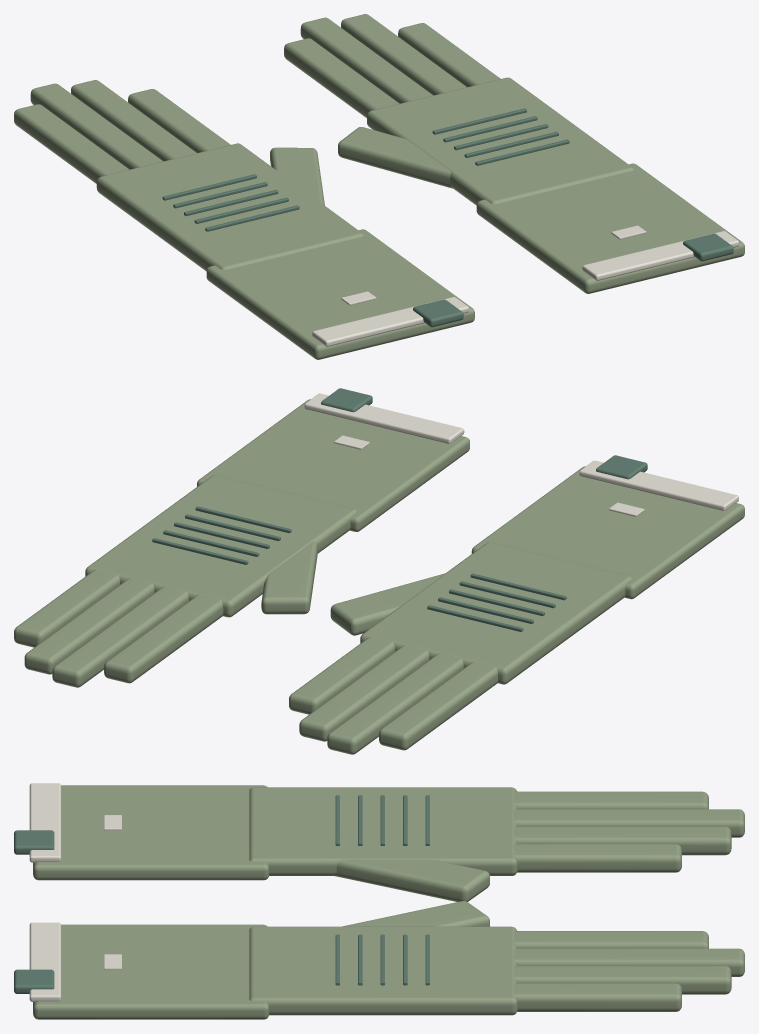
File: care-gloves.glb
3 views of the same model, one above another, from view 1: azimuth 30°, elevation 25°; view 2: azimuth 150°, elevation 25°; view 3: azimuth 270°, elevation 25° (orthographic). The views are drawn at different scales.
Parts seen in each view (by area): view 1: Glove palm, Glove palm.001, Glove long cuff.001, Glove long cuff, Glove finger.001, Glove finger.005, Glove thumb.001, Glove finger.004, Glove finger, Glove finger.002, Glove finger.006, Glove finger.007 (+6 smaller); view 2: Glove palm, Glove palm.001, Glove long cuff, Glove long cuff.001, Glove finger.005, Glove finger.001, Glove finger.004, Glove finger, Glove finger.006, Glove finger.002, Glove finger.003, Glove finger.007 (+6 smaller); view 3: Glove palm.001, Glove palm, Glove long cuff.001, Glove long cuff, Glove finger.003, Glove finger.007, Glove thumb, Glove finger.002, Glove finger.006, Glove finger.005, Glove finger.001, Glove finger (+6 smaller).
Boxes of the visible parts, box(x1,y1,x2,y2) form: Glove palm: box(96, 143, 364, 271); Glove palm.001: box(367, 77, 634, 205); Glove long cuff.001: box(476, 163, 744, 293); Glove long cuff: box(206, 229, 474, 359); Glove finger.001: box(30, 83, 163, 169); Glove finger.005: box(300, 17, 433, 103); Glove thumb.001: box(338, 127, 452, 188); Glove finger.004: box(284, 38, 399, 117); Glove finger: box(14, 104, 129, 183); Glove finger.002: box(71, 80, 196, 161); Glove finger.006: box(341, 14, 466, 95); Glove finger.007: box(398, 23, 500, 86); Glove palm: box(360, 542, 632, 684); Glove palm.001: box(85, 475, 357, 617); Glove long cuff: box(471, 466, 744, 599); Glove long cuff.001: box(197, 399, 469, 531); Glove finger.005: box(52, 586, 188, 687); Glove finger.001: box(327, 653, 463, 754); Glove finger.004: box(104, 594, 223, 683); Glove finger: box(379, 661, 497, 750); Glove finger.006: box(24, 578, 154, 674); Glove finger.002: box(299, 645, 429, 741); Glove finger.003: box(289, 636, 394, 714); Glove finger.007: box(14, 569, 119, 647); Glove palm.001: box(249, 926, 517, 1015); Glove palm: box(249, 787, 517, 875); Glove long cuff.001: box(33, 924, 269, 1019); Glove long cuff: box(33, 785, 269, 880); Glove finger.003: box(514, 844, 681, 872); Glove finger.007: box(514, 983, 681, 1011); Glove thumb: box(335, 859, 489, 901); Glove finger.002: box(514, 826, 731, 855); Glove finger.006: box(514, 966, 731, 994); Glove finger.005: box(514, 948, 744, 976); Glove finger.001: box(514, 809, 744, 837); Glove finger: box(514, 791, 708, 809).
Bounding box in the file's own units: 0.23 × 0.012 × 0.32.
